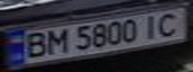0: (106, 19, 127, 46), (121, 17, 142, 43)
5: (72, 22, 93, 52)
8: (90, 21, 112, 50)
B: (18, 29, 51, 60)
C: (151, 10, 187, 37)
I: (139, 12, 163, 39)
M: (42, 26, 69, 56)
